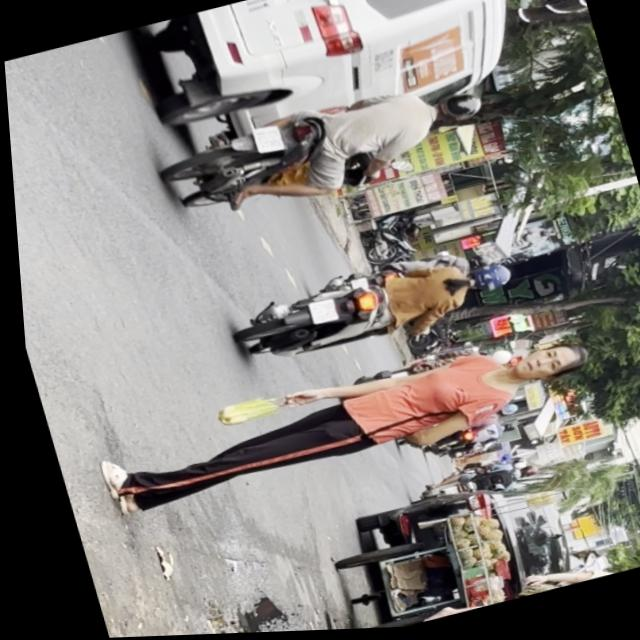helmet: (424, 91, 484, 130), (459, 261, 511, 298)
licenseplate: (146, 66, 498, 233), (218, 236, 519, 377)
nohelmet: (248, 124, 283, 158), (302, 299, 334, 327)
